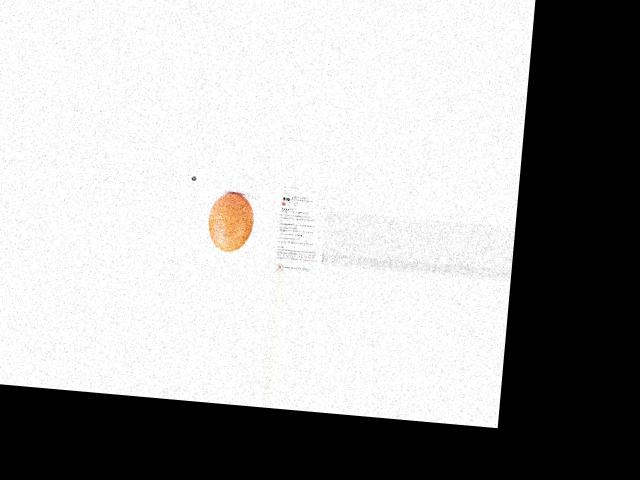egg: (206, 191, 255, 252)
